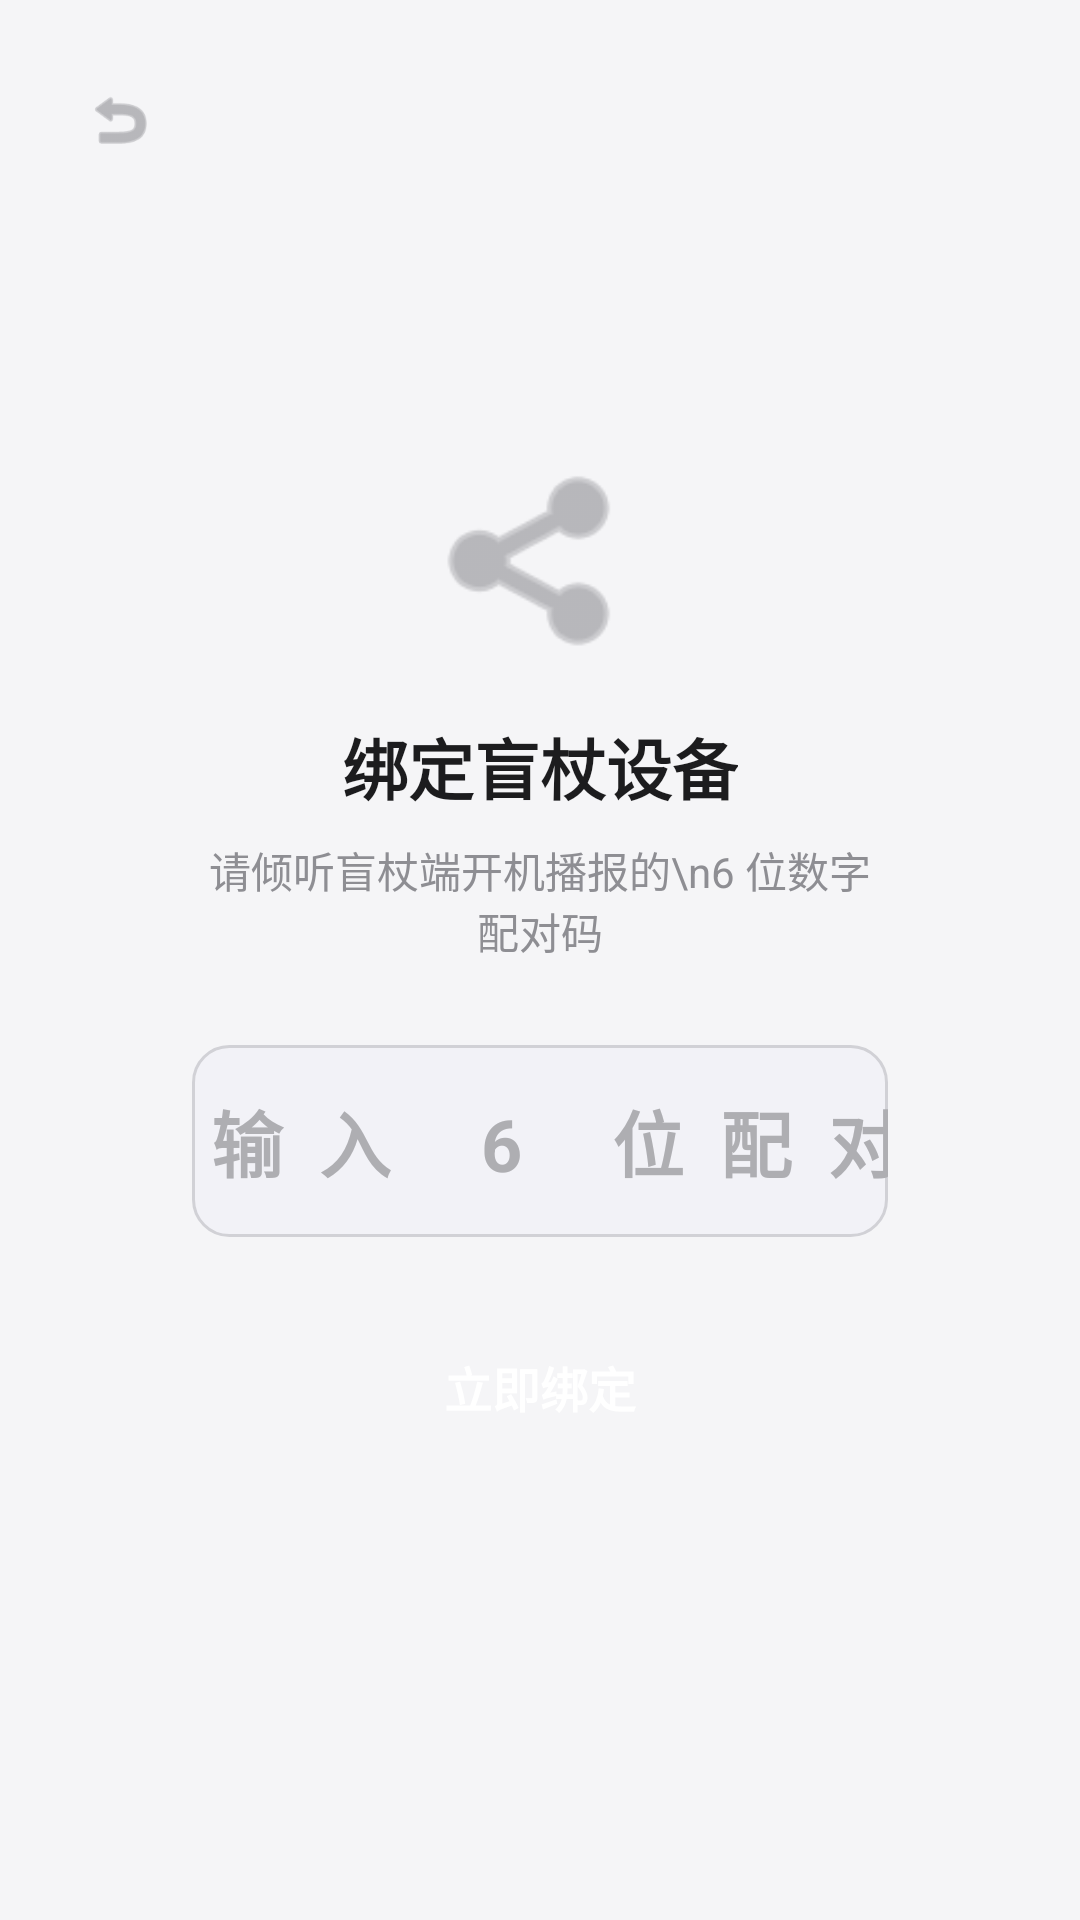

Named icons in this screenshot (1080px×1920px) and their centers, point (x, y):
revert: point (121, 120)
share: point (529, 560)
